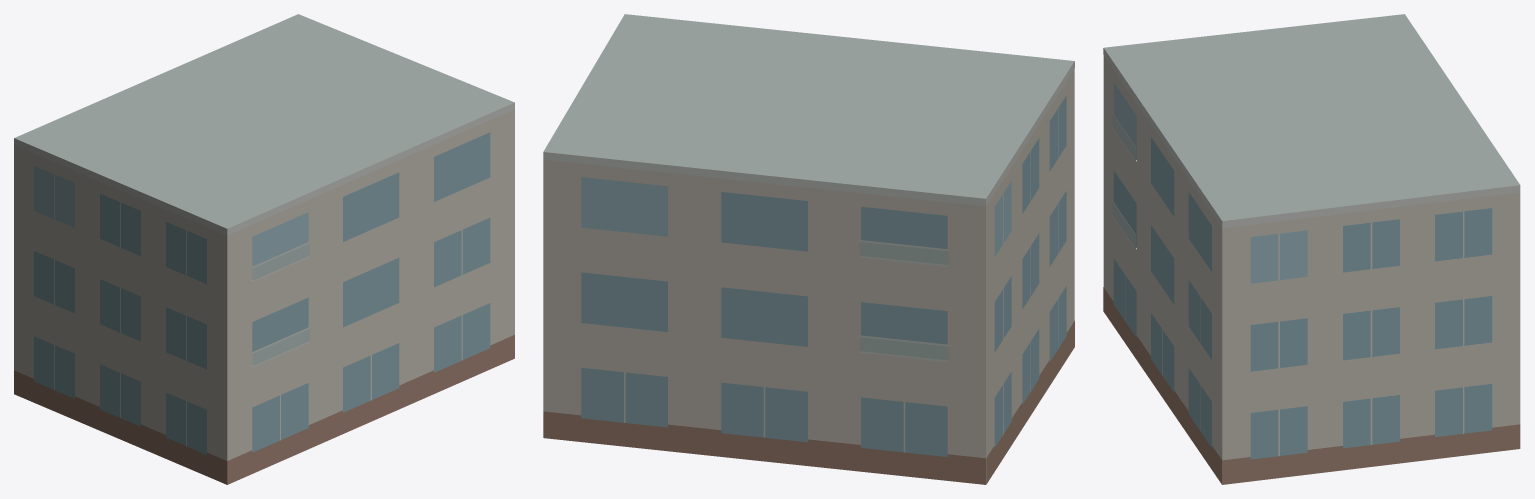
The model's file is survey-upis-32698049.glb.
3 renders of one model, left to right at view 1: azimuth 30°, elevation 25°; view 2: azimuth 150°, elevation 25°; view 3: azimuth 270°, elevation 25°, orthographic. The views are drawn at different scales.
Visible parts, largest first — view 1: survey-upis-32698049.tmp; view 2: survey-upis-32698049.tmp; view 3: survey-upis-32698049.tmp.
Boxes of the visible parts, left/top/right/bottom form: survey-upis-32698049.tmp: left=14, top=14, right=514, bottom=484; survey-upis-32698049.tmp: left=543, top=14, right=1074, bottom=484; survey-upis-32698049.tmp: left=1103, top=14, right=1520, bottom=484.
Size of the model in its own units: 15.42 by 9.15 by 13.12.
